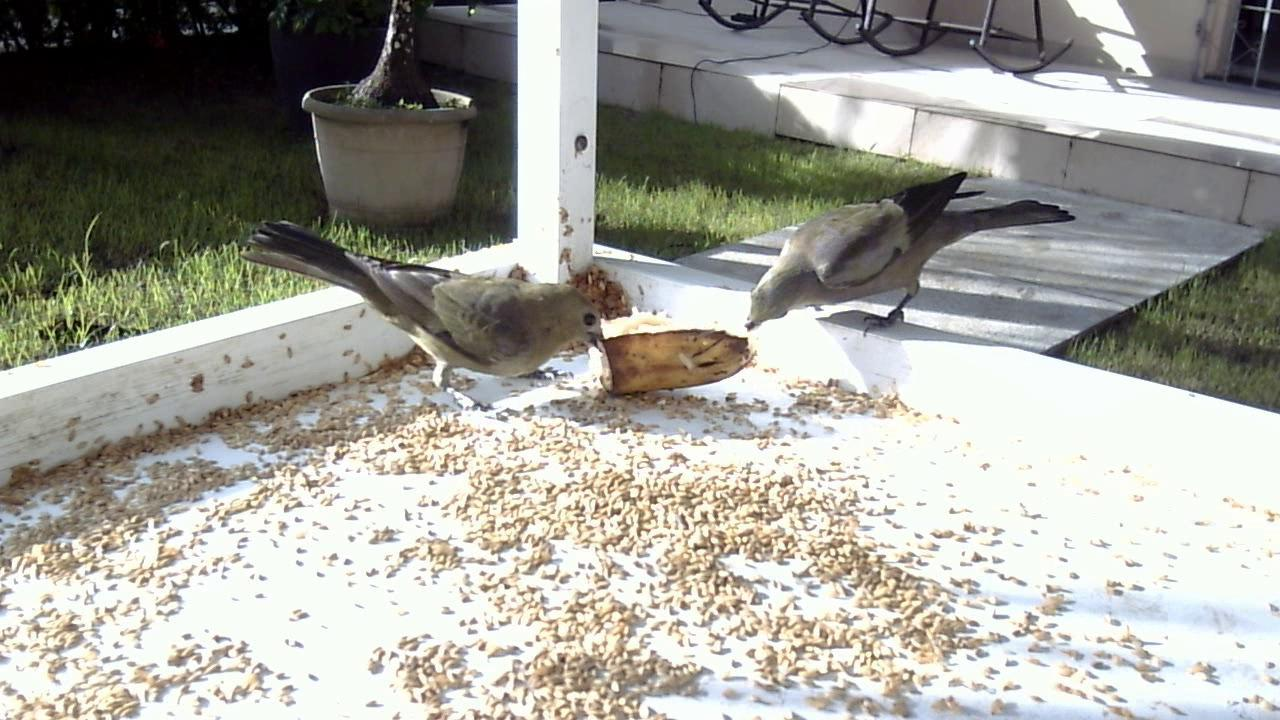sanhaco_do_coqueiro: (241, 211, 613, 422), (726, 154, 1078, 356)
